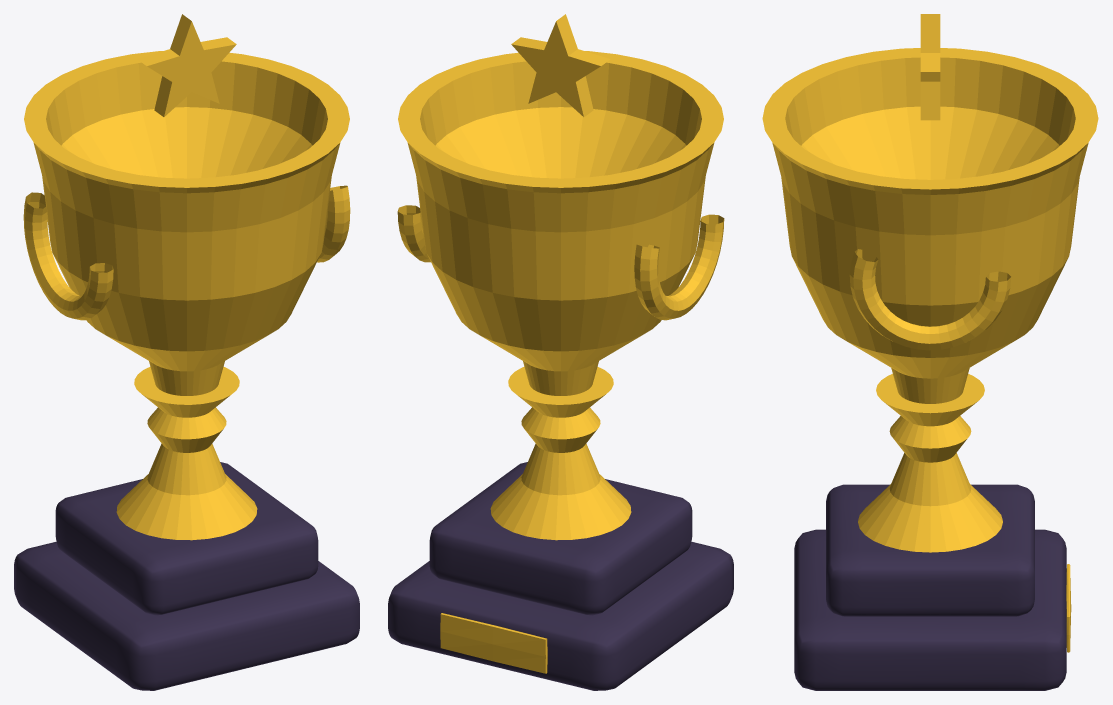
The model's file is Trophy.obj.
3 renders of one model, left to right at view 1: azimuth 30°, elevation 25°; view 2: azimuth 150°, elevation 25°; view 3: azimuth 270°, elevation 25°, orthographic. The views are drawn at different scales.
Parts seen in each view (by area): view 1: Cup, Base; view 2: Cup, Base; view 3: Cup, Base.
Boxes of the visible parts, <box> form: Cup: <box>23,14,350,540</box>; Base: <box>14,462,359,690</box>; Cup: <box>397,14,724,673</box>; Base: <box>388,462,733,690</box>; Cup: <box>762,14,1098,652</box>; Base: <box>794,484,1066,690</box>.
Bounding box in the file's own units: 3.7 × 7.62 × 3.7.
